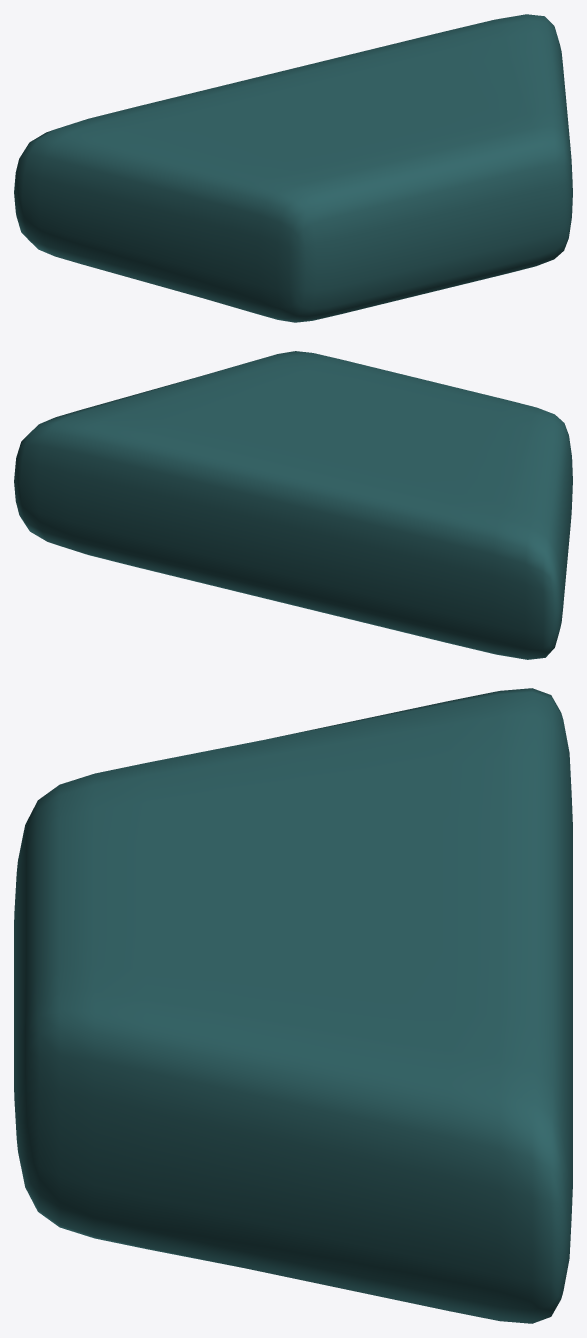
The model's file is button.glb.
The picture shows the model from 3 angles, top to bottom: view 1: azimuth 30°, elevation 25°; view 2: azimuth 150°, elevation 25°; view 3: azimuth 270°, elevation 25°; orthographic projection. The views are drawn at different scales.
Visible parts, largest first — view 1: Cube; view 2: Cube; view 3: Cube.
Boxes of the visible parts, box(x1,y1,x2,y2) form: Cube: box(14, 14, 572, 322); Cube: box(14, 351, 572, 659); Cube: box(14, 688, 572, 1323).
Size of the model in its own units: 3.96 by 0.9274 by 1.98.
